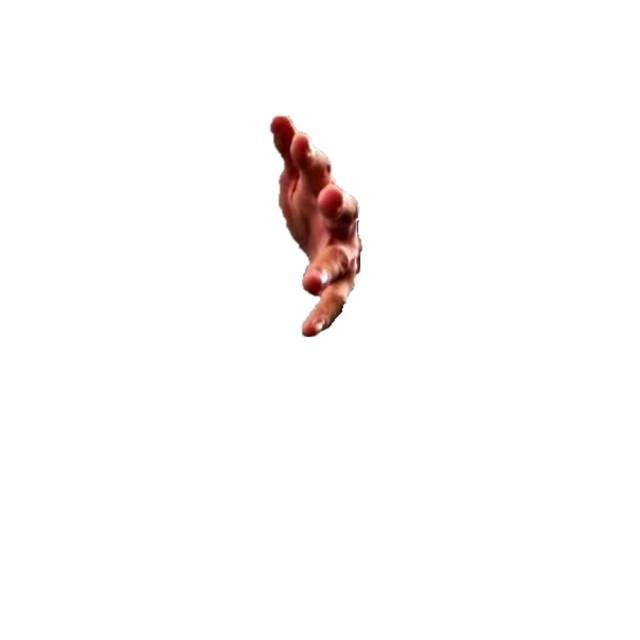pa-: (270, 115, 363, 338)
